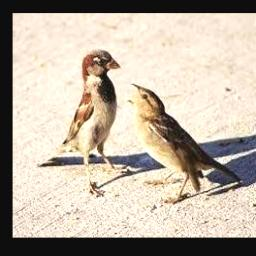Sparrow: (127, 82, 242, 204), (41, 49, 129, 197)
